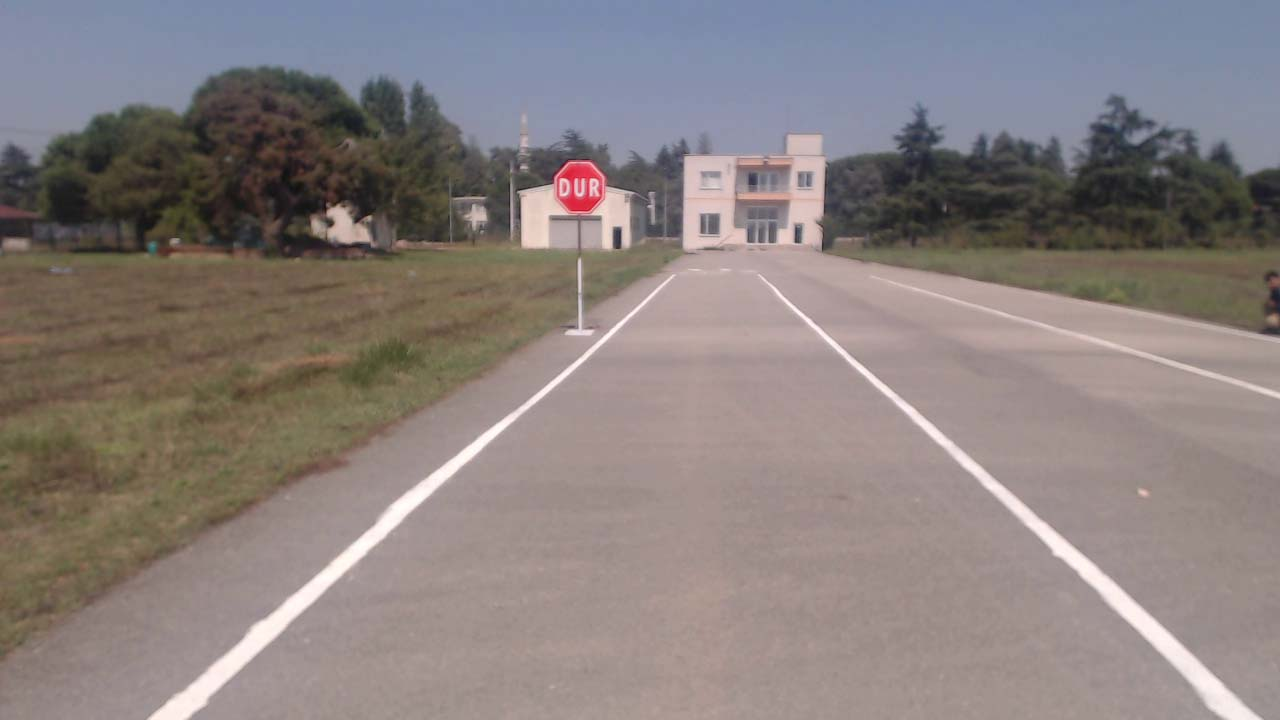arac_dur_isareti: (490, 120, 658, 365)
